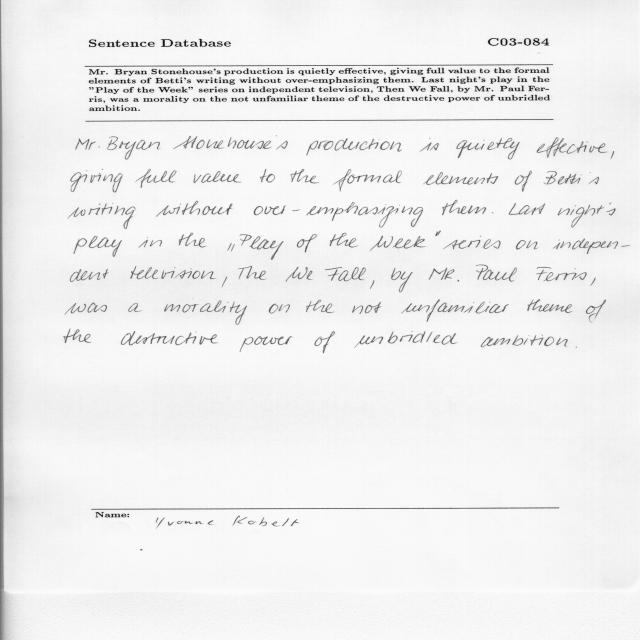word: (254, 202, 423, 227), (402, 299, 509, 322), (165, 300, 248, 325), (68, 203, 136, 229), (354, 331, 457, 348), (306, 138, 402, 156), (174, 136, 288, 150), (334, 169, 402, 192), (558, 203, 616, 228), (456, 138, 520, 160), (537, 138, 607, 158), (231, 234, 284, 260), (121, 331, 218, 345), (107, 136, 160, 160), (156, 201, 233, 217), (553, 239, 630, 254), (71, 171, 123, 193), (131, 266, 217, 279), (325, 267, 374, 289), (481, 335, 568, 347), (74, 236, 122, 257), (424, 172, 499, 185), (370, 236, 426, 251), (240, 336, 292, 352), (136, 169, 177, 188), (544, 171, 599, 185), (443, 236, 501, 249), (536, 267, 587, 281), (476, 265, 517, 282), (442, 200, 486, 215), (528, 299, 573, 313), (194, 171, 242, 183), (70, 269, 109, 282), (65, 303, 107, 314), (586, 300, 606, 323), (315, 332, 335, 354), (509, 203, 545, 215), (429, 268, 459, 282), (286, 267, 313, 282), (291, 169, 319, 183), (179, 233, 207, 247), (330, 233, 358, 247), (238, 266, 266, 280), (64, 329, 91, 343), (306, 300, 334, 313), (297, 234, 317, 252), (352, 302, 382, 314), (515, 171, 532, 192), (76, 138, 100, 150), (399, 272, 412, 293), (139, 237, 162, 248), (420, 138, 439, 151), (269, 304, 290, 314), (516, 240, 538, 249), (260, 169, 275, 182), (391, 268, 401, 280), (129, 303, 142, 312), (222, 276, 227, 287), (591, 277, 596, 286), (228, 243, 232, 251), (435, 231, 441, 236), (611, 151, 614, 159), (575, 347, 577, 348), (492, 213, 493, 214)
